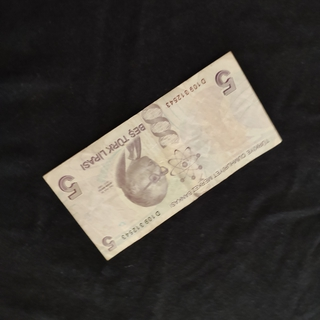5TLBack: (41, 48, 284, 263)
